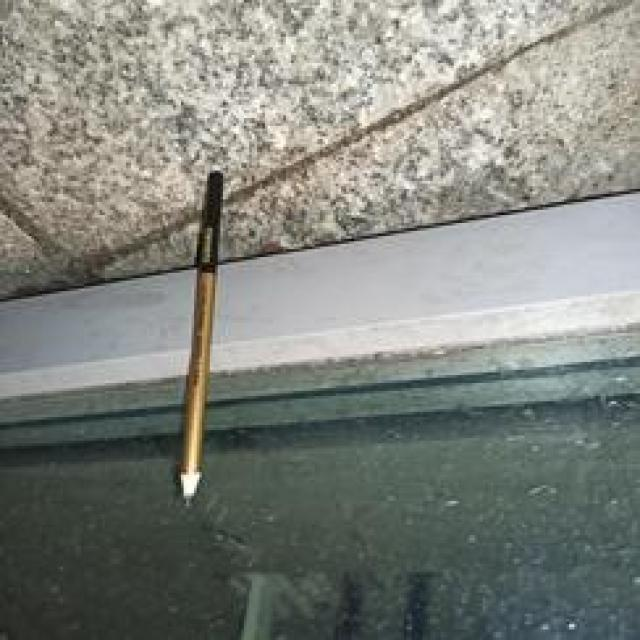pencil: (176, 168, 223, 503)
